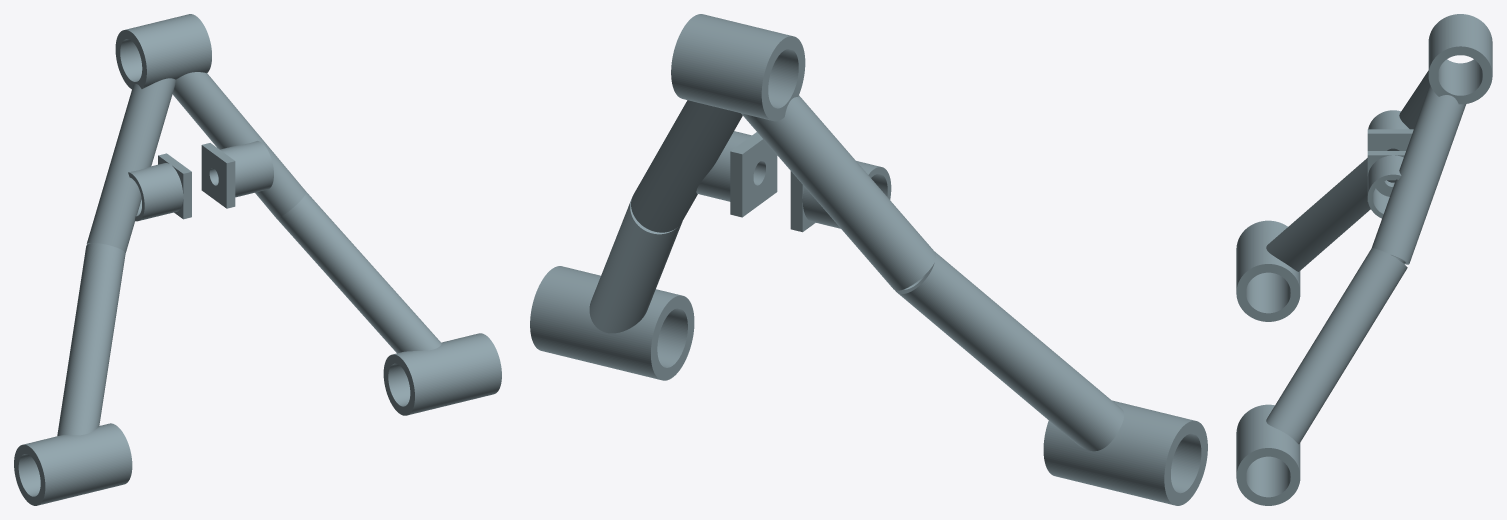
Rendered from lower_wishbone_C02_R01.glb.
3 views of the same model, side by side, from view 1: azimuth 30°, elevation 25°; view 2: azimuth 150°, elevation 25°; view 3: azimuth 270°, elevation 25° (orthographic). The views are drawn at different scales.
Visible parts, largest first — view 1: lower_wishbone_C02_R01; view 2: lower_wishbone_C02_R01; view 3: lower_wishbone_C02_R01.
Part boxes in pixels (x1,y1,x2,y2): lower_wishbone_C02_R01: (14,14,501,505); lower_wishbone_C02_R01: (530,14,1207,505); lower_wishbone_C02_R01: (1236,14,1492,505).
Bounding box in the file's own units: 0.42 × 0.312 × 0.2.
